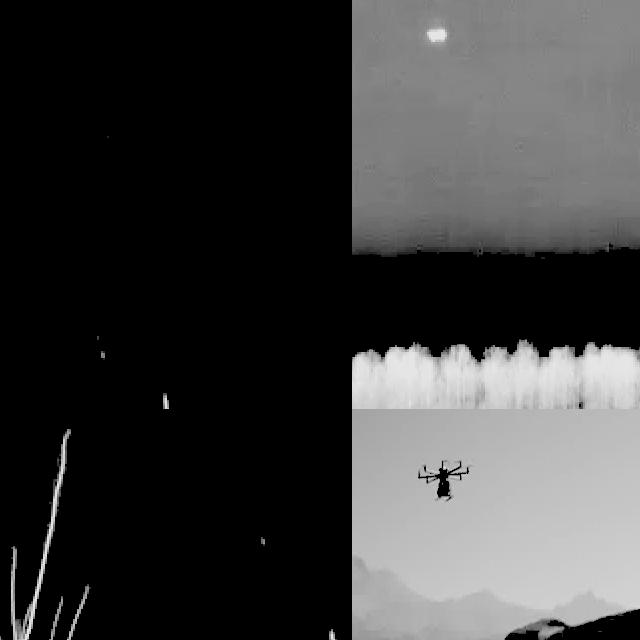0: (92, 338, 116, 370), (253, 529, 277, 561)
1: (421, 24, 457, 54)
drone: (417, 451, 474, 506)
